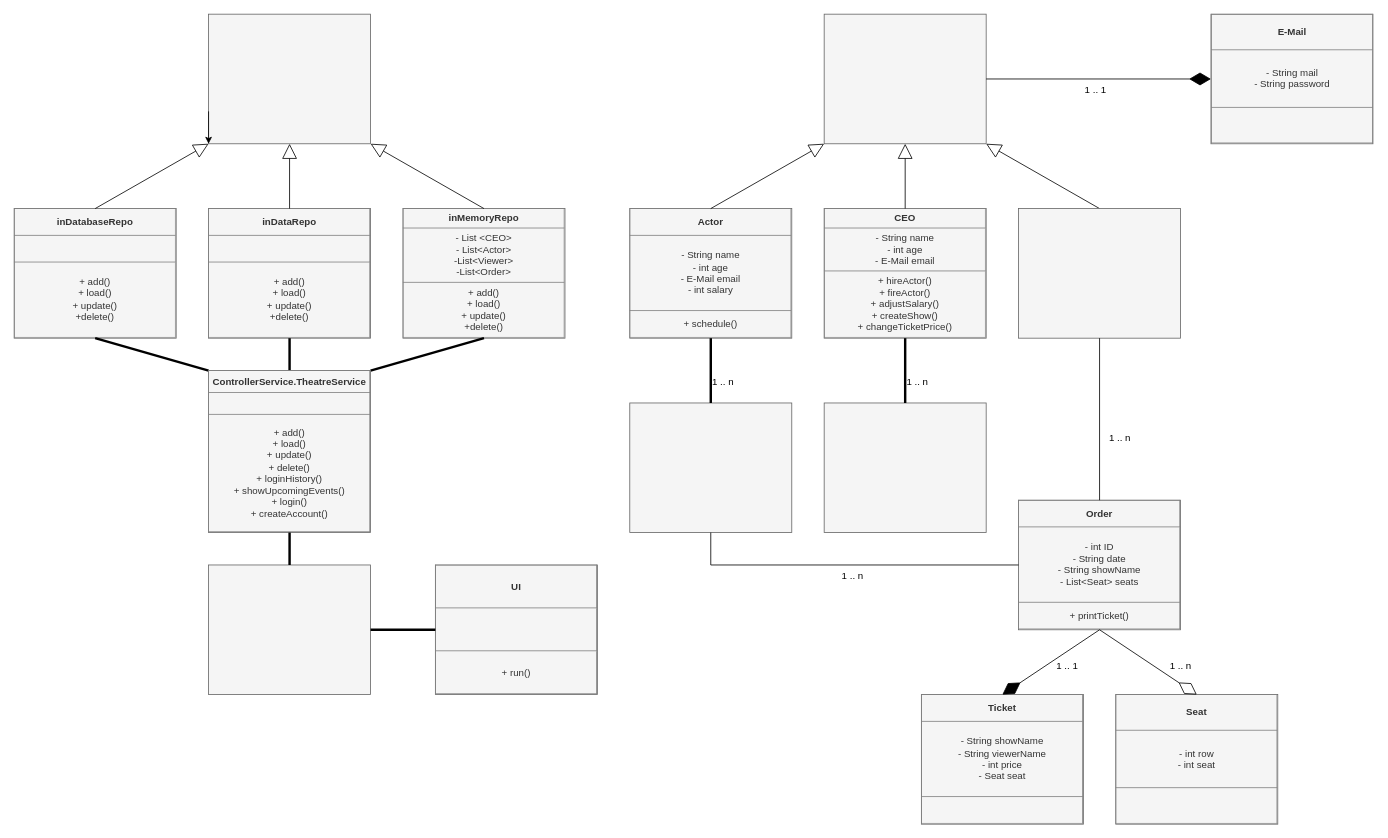
The diagram is 1388 pixels wide and 838 high, and some of its shapes have lost their labels. The centre of each missing label's shape, as x and y in pixels:
Auditorium - String name - int capacity - int[][] seatPlace: the point at 904,467
Controller: the point at 289,629
Person <<Interface>> - String name - int age - E-Mail email: the point at 904,78
Repository.Repository <<Interface>> + add() + load() + update() +delete(): the point at 289,78
Show - String name - Auditorium audit - Map<Actors, Role>: the point at 710,467
Viewer - String name - int age - E-Mail email + createOrder() + viewOrders(): the point at 1099,273
